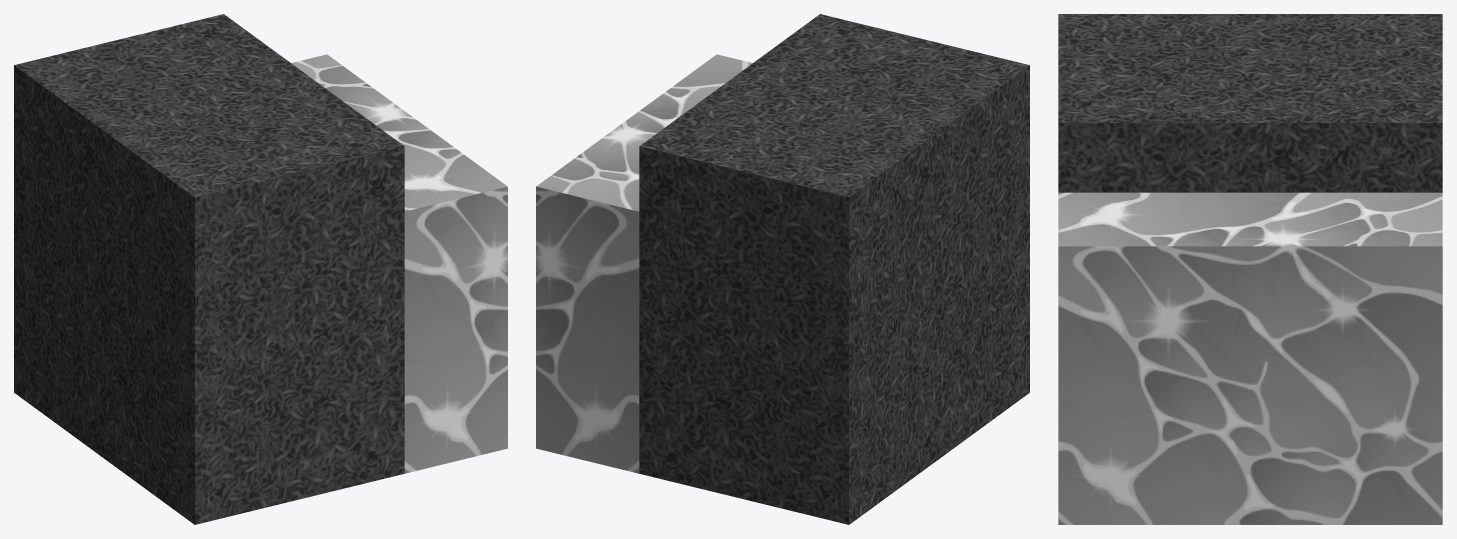
File: GrassWaterEdge.fbx
3 renders of one model, left to right at view 1: azimuth 30°, elevation 25°; view 2: azimuth 150°, elevation 25°; view 3: azimuth 270°, elevation 25°, orthographic. The views are drawn at different scales.
Parts seen in each view (by area): view 1: Cube.034; view 2: Cube.034; view 3: Cube.034.
Part boxes in pixels (x1,y1,x2,y2): Cube.034: [14, 14, 507, 524]; Cube.034: [536, 14, 1029, 524]; Cube.034: [1058, 14, 1442, 524].
Size of the model in its own units: 100 by 100 by 100.
